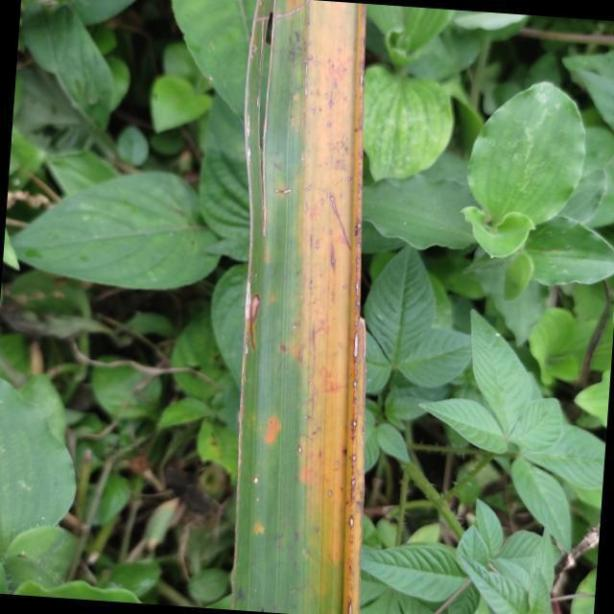Megnesium: (227, 0, 368, 614)
